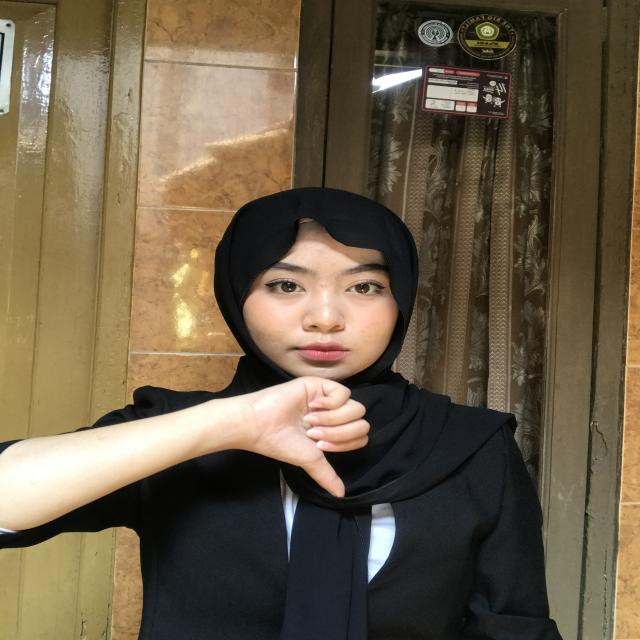sedih: (226, 369, 370, 504)
